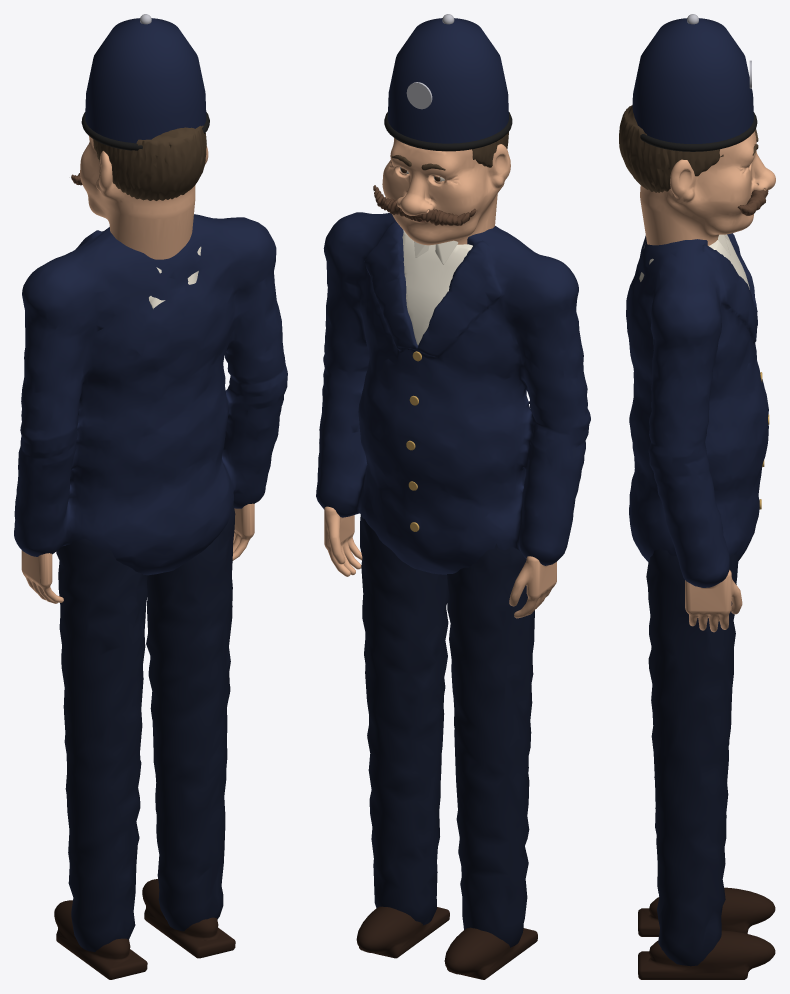
File: bramble.fbx
3 renders of one model, left to right at view 1: azimuth 30°, elevation 25°; view 2: azimuth 150°, elevation 25°; view 3: azimuth 270°, elevation 25°, orthographic.
Parts seen in each view (by area): view 1: Body, Hat, Head, HandR, HandL; view 2: Body, Hat, Head, HandL, HandR; view 3: Body, Hat, Head, HandL.
Boxes of the visible parts, <box> form: Body: <box>14,214,287,979</box>; Hat: <box>81,14,209,150</box>; Head: <box>71,125,208,259</box>; HandR: <box>21,550,63,603</box>; HandL: <box>232,503,254,560</box>; Body: <box>316,212,590,979</box>; Hat: <box>384,14,512,151</box>; Head: <box>373,132,510,245</box>; HandL: <box>324,506,362,576</box>; HandR: <box>509,556,556,618</box>; Body: <box>626,233,775,979</box>; Hat: <box>632,14,757,151</box>; Head: <box>619,105,775,245</box>; HandL: <box>685,570,742,632</box>.
Bounding box in the file's own units: 0.5493 × 1.88 × 0.2855.
